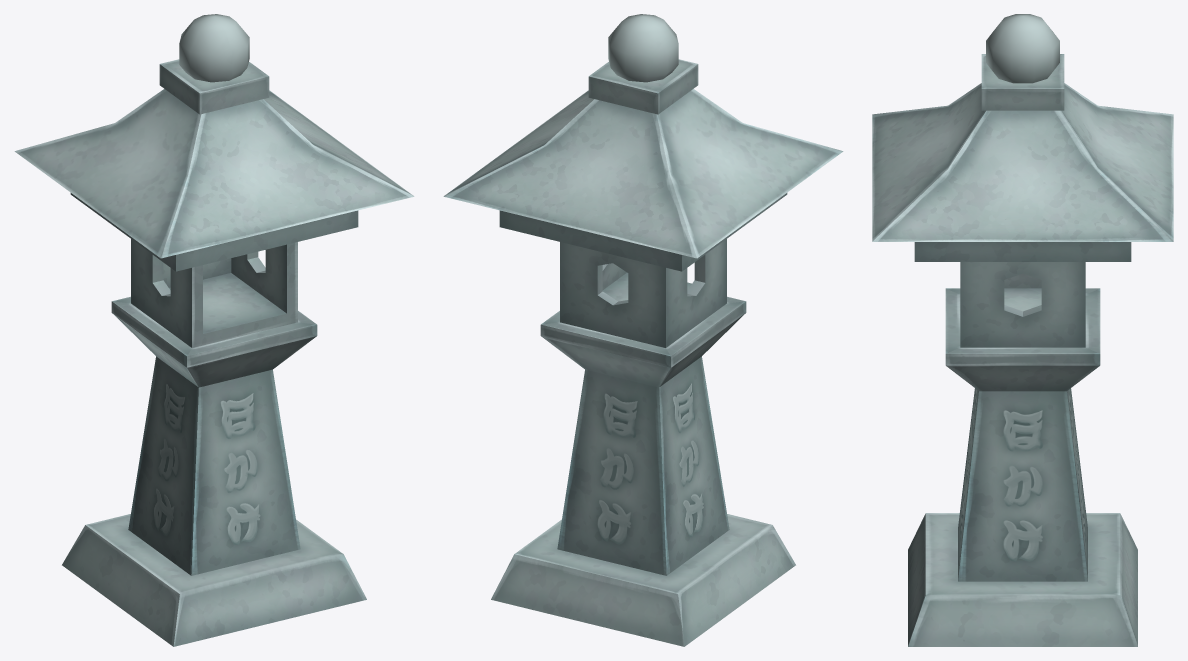
Rendered from SM_Enviro_Lantern01.fbx.
3 renders of one model, left to right at view 1: azimuth 30°, elevation 25°; view 2: azimuth 150°, elevation 25°; view 3: azimuth 270°, elevation 25°, orthographic. The views are drawn at different scales.
Visible parts, largest first — view 1: SM_Enviro_Lantern01; view 2: SM_Enviro_Lantern01; view 3: SM_Enviro_Lantern01.
Part boxes in pixels (<box>): SM_Enviro_Lantern01: <box>14,14,414,646</box>; SM_Enviro_Lantern01: <box>443,14,843,646</box>; SM_Enviro_Lantern01: <box>872,14,1173,646</box>.
Bounding box in the file's own units: 73.6 × 157 × 73.6.
